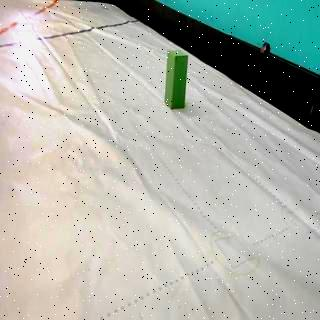greenbox: (166, 48, 188, 109)
